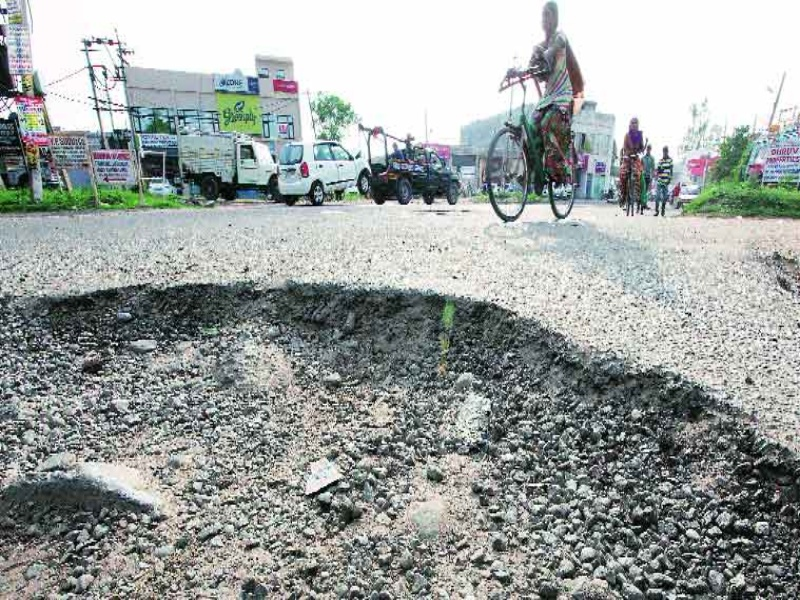pothole: (3, 275, 800, 600)
